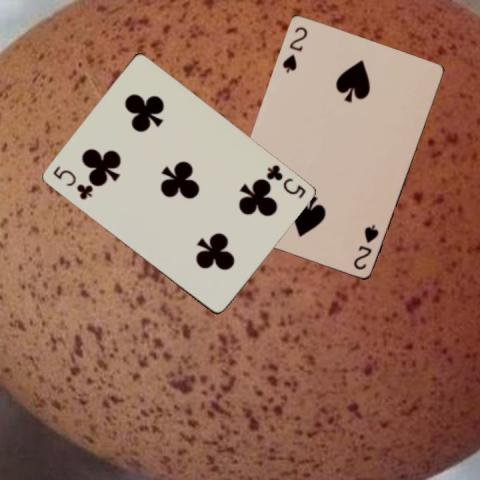2s: (280, 24, 310, 74), (351, 221, 380, 272)
5c: (50, 162, 94, 201), (262, 161, 306, 200)
